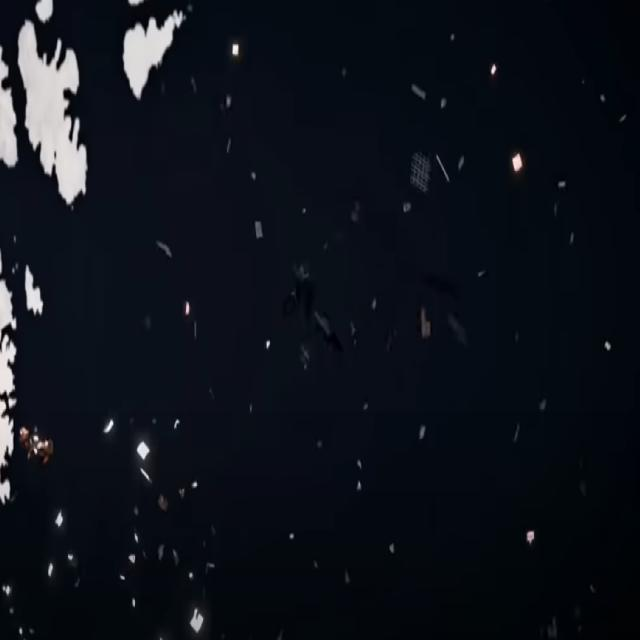large_debris: (281, 250, 317, 320), (16, 416, 54, 470), (408, 138, 433, 199), (134, 432, 156, 466), (419, 304, 435, 345), (414, 417, 432, 445), (524, 520, 538, 554), (509, 147, 524, 177), (157, 486, 170, 515), (53, 504, 65, 534), (100, 413, 115, 436), (253, 217, 265, 244), (488, 58, 500, 82), (44, 559, 57, 581), (601, 333, 613, 356)
